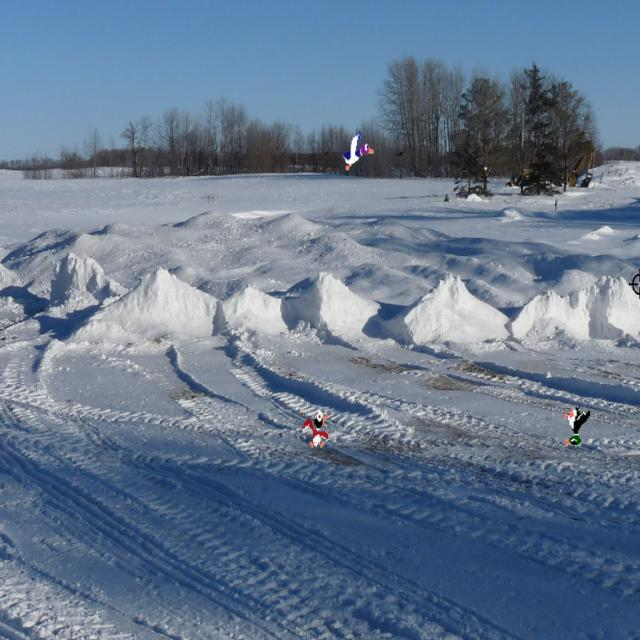duck: (337, 132, 378, 176)
falling_duck: (296, 398, 334, 455), (557, 399, 592, 451)
